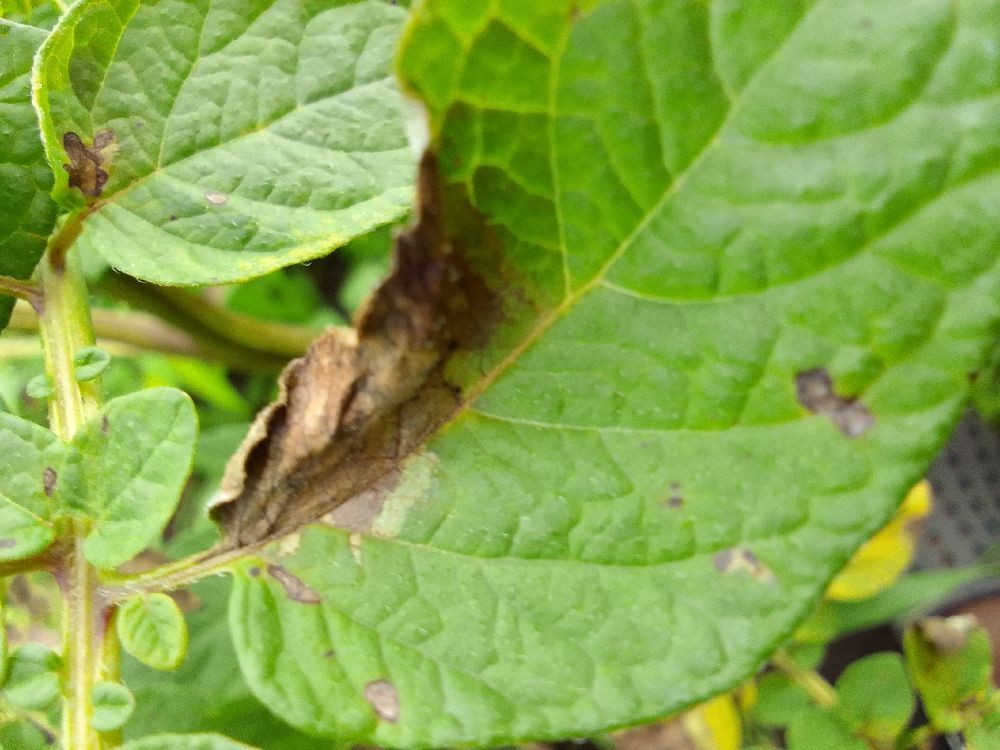late_blight: (792, 572, 1000, 713), (0, 520, 136, 671), (470, 681, 746, 750)
